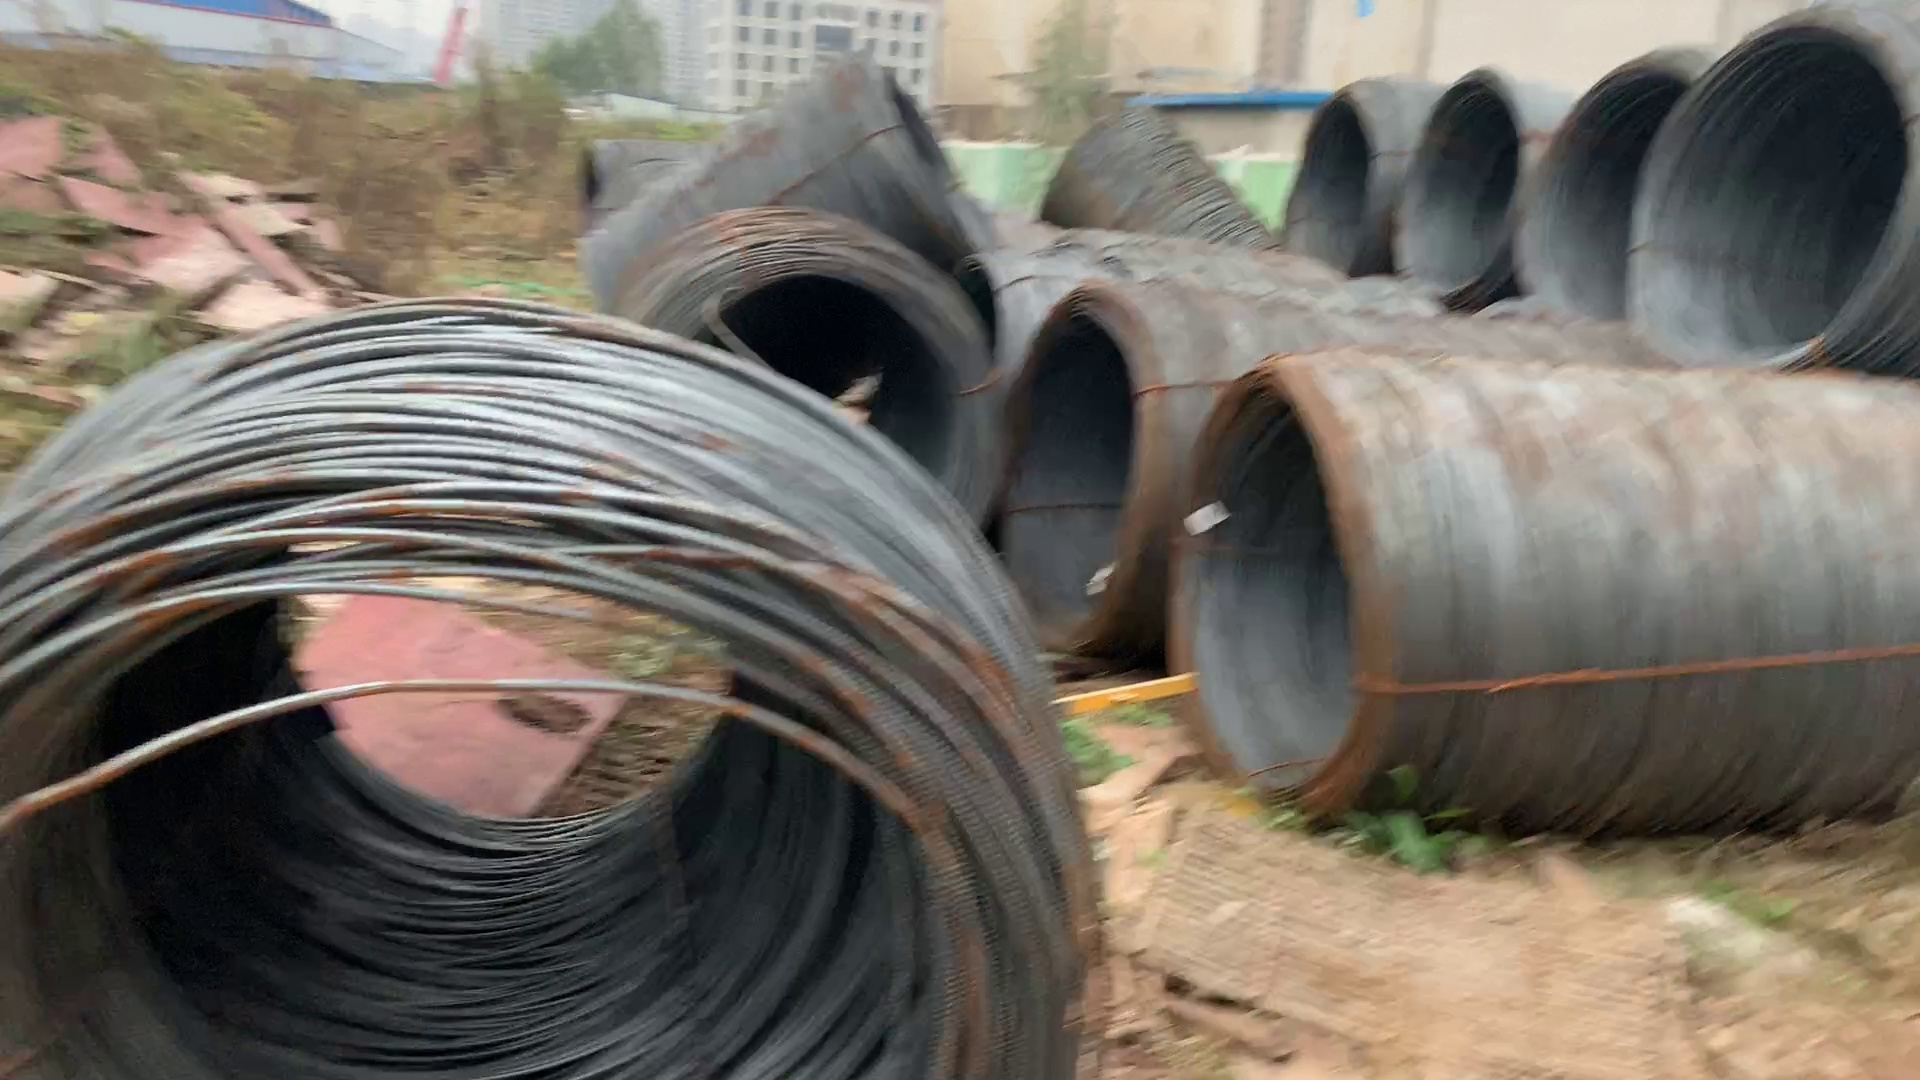coil: (36, 443, 1060, 1080), (611, 247, 1007, 578), (1633, 26, 1907, 367), (1171, 363, 1382, 802), (1004, 268, 1154, 659), (1520, 54, 1704, 332), (860, 54, 1010, 272), (1390, 66, 1524, 305), (1265, 79, 1393, 285)
